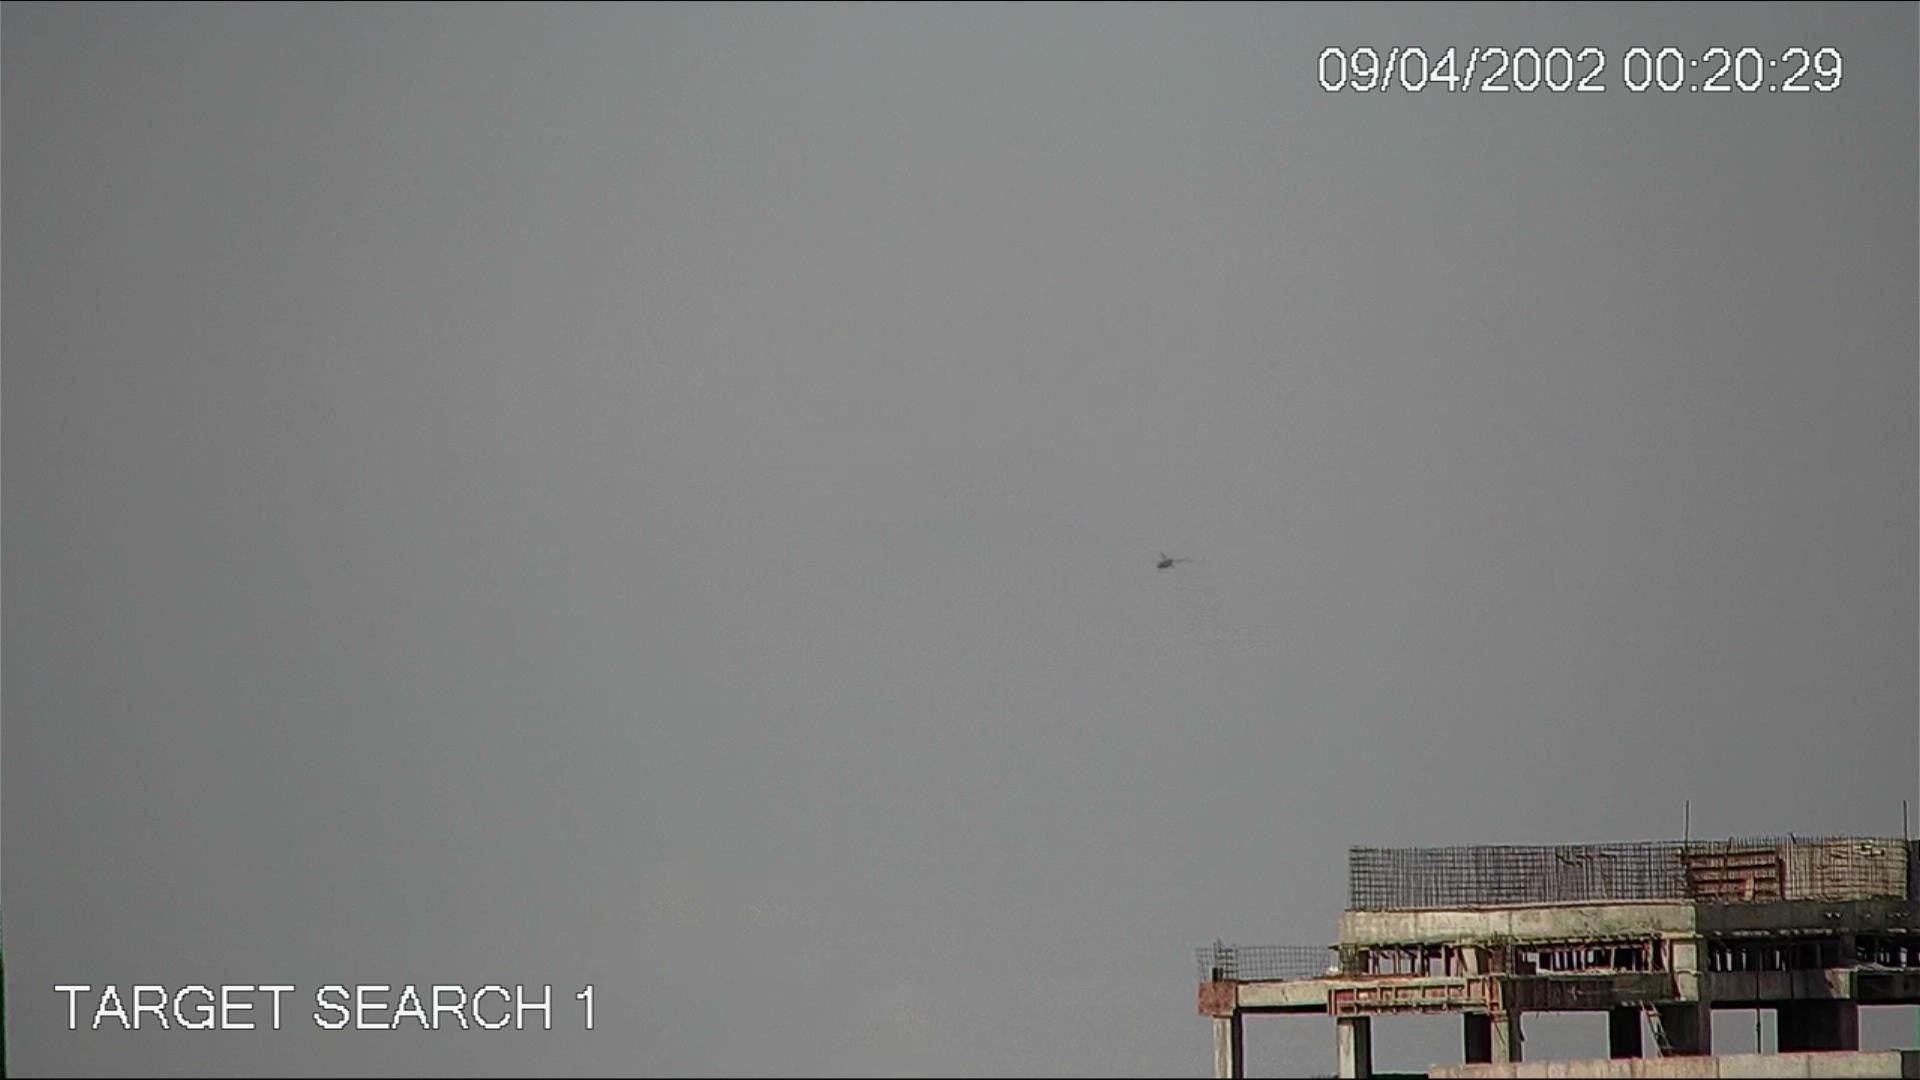SU_30: (1153, 553, 1172, 574)
